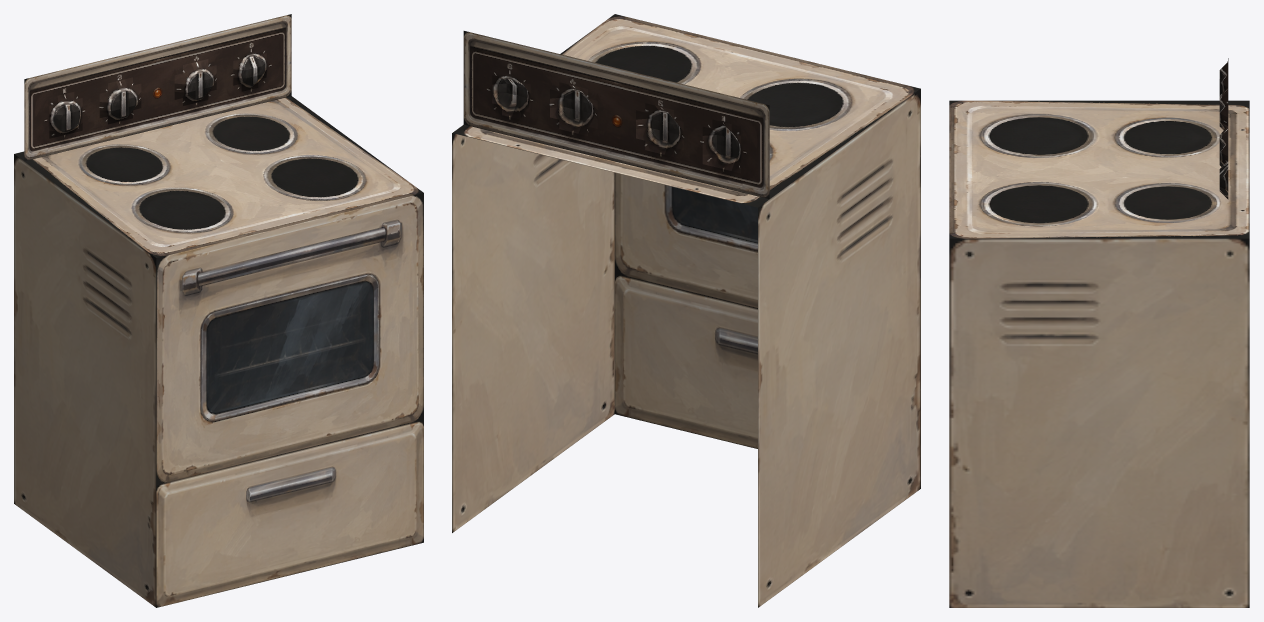
The model's file is stress_b_v3_deep_tall.glb.
The picture shows the model from 3 angles, left to right: view 1: azimuth 30°, elevation 25°; view 2: azimuth 150°, elevation 25°; view 3: azimuth 270°, elevation 25°; orthographic projection. The views are drawn at different scales.
Parts seen in each view (by area): view 1: stress_b_v3_deep_tall_front_door, stress_b_v3_deep_tall_left, stress_b_v3_deep_tall_cooktop, stress_b_v3_deep_tall_front_drawer, stress_b_v3_deep_tall_backguard; view 2: stress_b_v3_deep_tall_left, stress_b_v3_deep_tall_right, stress_b_v3_deep_tall_backguard, stress_b_v3_deep_tall_cooktop, stress_b_v3_deep_tall_front_drawer, stress_b_v3_deep_tall_front_door; view 3: stress_b_v3_deep_tall_right, stress_b_v3_deep_tall_cooktop, stress_b_v3_deep_tall_backguard.
Boxes of the visible parts, left/top/right/bottom form: stress_b_v3_deep_tall_front_door: left=156, top=193, right=423, bottom=485; stress_b_v3_deep_tall_left: left=14, top=154, right=156, bottom=607; stress_b_v3_deep_tall_cooktop: left=14, top=96, right=423, bottom=257; stress_b_v3_deep_tall_front_drawer: left=156, top=420, right=423, bottom=607; stress_b_v3_deep_tall_backguard: left=24, top=14, right=291, bottom=161; stress_b_v3_deep_tall_left: left=758, top=89, right=920, bottom=607; stress_b_v3_deep_tall_right: left=452, top=133, right=614, bottom=532; stress_b_v3_deep_tall_backguard: left=463, top=31, right=769, bottom=198; stress_b_v3_deep_tall_cooktop: left=452, top=14, right=920, bottom=207; stress_b_v3_deep_tall_front_drawer: left=615, top=274, right=757, bottom=448; stress_b_v3_deep_tall_front_door: left=615, top=173, right=757, bottom=308; stress_b_v3_deep_tall_right: left=949, top=238, right=1249, bottom=607; stress_b_v3_deep_tall_cooktop: left=949, top=100, right=1249, bottom=238; stress_b_v3_deep_tall_backguard: left=1219, top=58, right=1228, bottom=199.
Bounding box in the file's own units: 0.76 × 1.17 × 0.7.
Materials: 1 (1 with a texture image).
